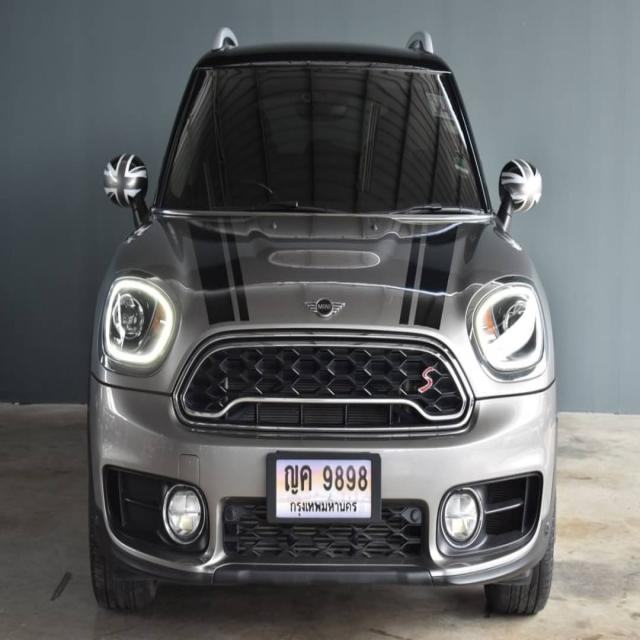license_plate: (270, 445, 380, 530)
